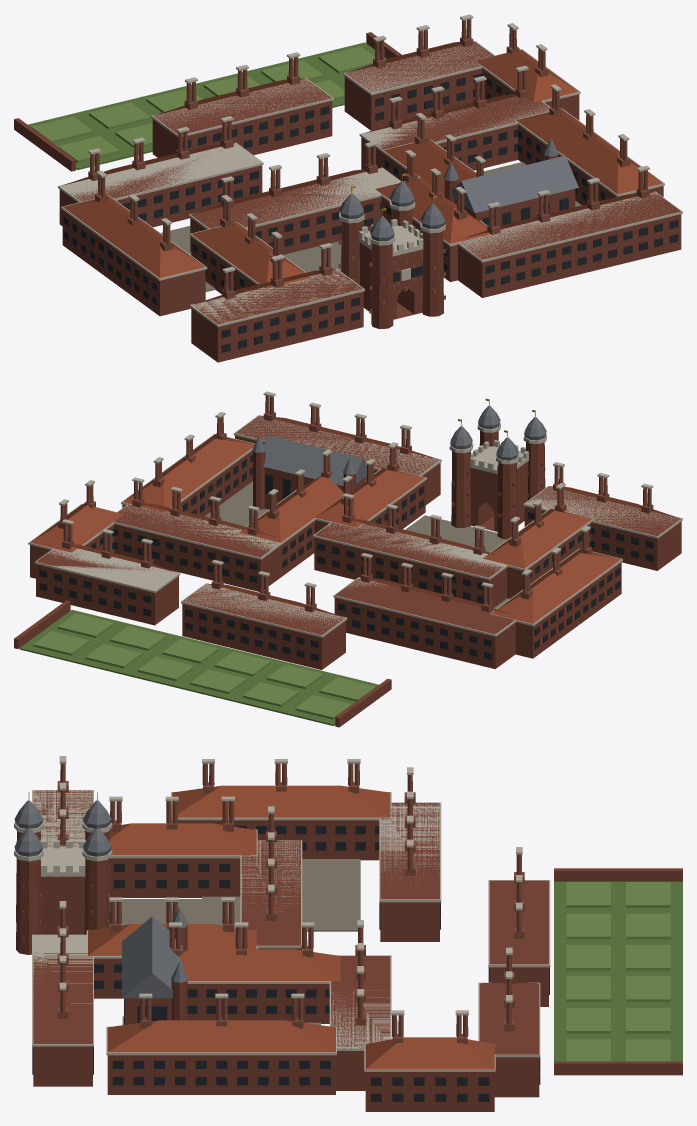
Rendered from st_james_palace.glb.
3 renders of one model, top to bottom at view 1: azimuth 30°, elevation 25°; view 2: azimuth 150°, elevation 25°; view 3: azimuth 270°, elevation 25°, orthographic. The views are drawn at different scales.
Visible parts, largest first — view 1: st_james_palace; view 2: st_james_palace; view 3: st_james_palace.
Boxes of the visible parts, x1,y1,x2,y2 form: st_james_palace: (14,14,682,362); st_james_palace: (14,391,682,727); st_james_palace: (14,756,682,1111).
Bounding box in the file's own units: 134 × 28.9 × 135.
